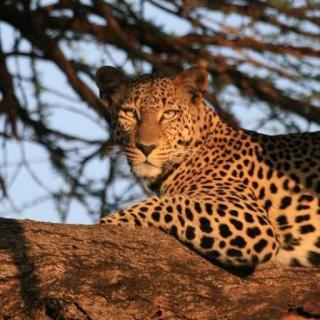Leopard: (77, 47, 320, 281)
